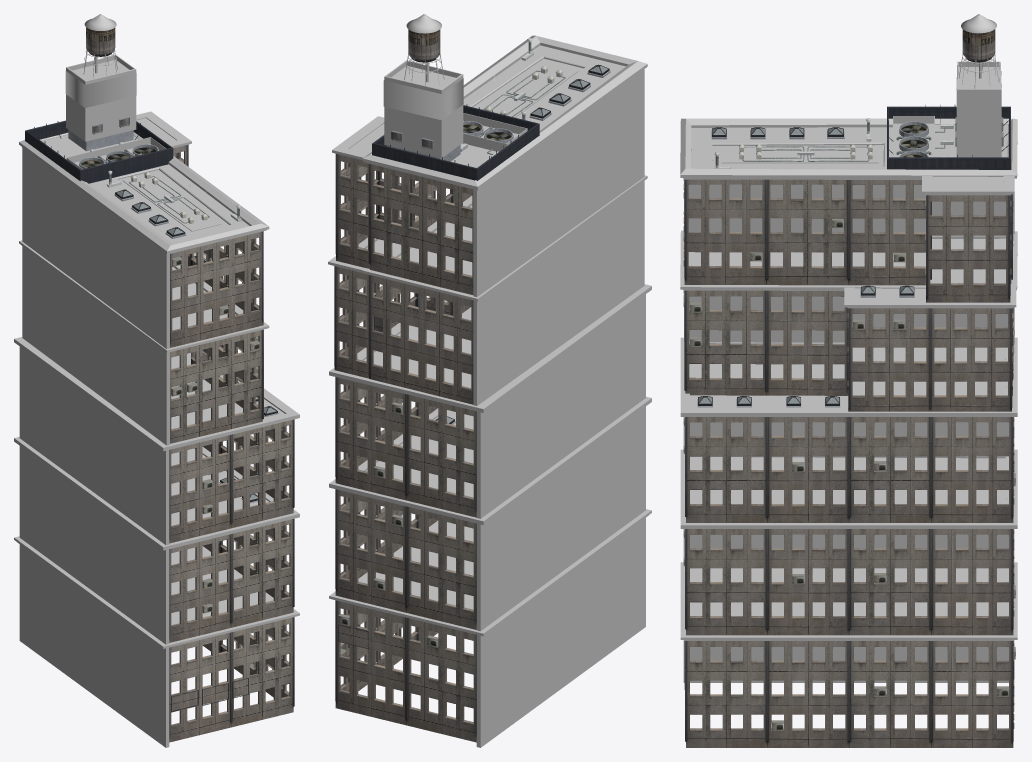
The model's file is u2NWBuild3.gltf.
3 renders of one model, left to right at view 1: azimuth 30°, elevation 25°; view 2: azimuth 150°, elevation 25°; view 3: azimuth 270°, elevation 25°, orthographic. The views are drawn at different scales.
Parts seen in each view (by area): view 1: u2NWBuild3; view 2: u2NWBuild3; view 3: u2NWBuild3.
Part boxes in pixels (bbox=[...]): u2NWBuild3: bbox=[14, 14, 299, 747]; u2NWBuild3: bbox=[328, 14, 651, 747]; u2NWBuild3: bbox=[680, 14, 1017, 747].
Size of the model in its own units: 6.93 by 29.83 by 12.98.
